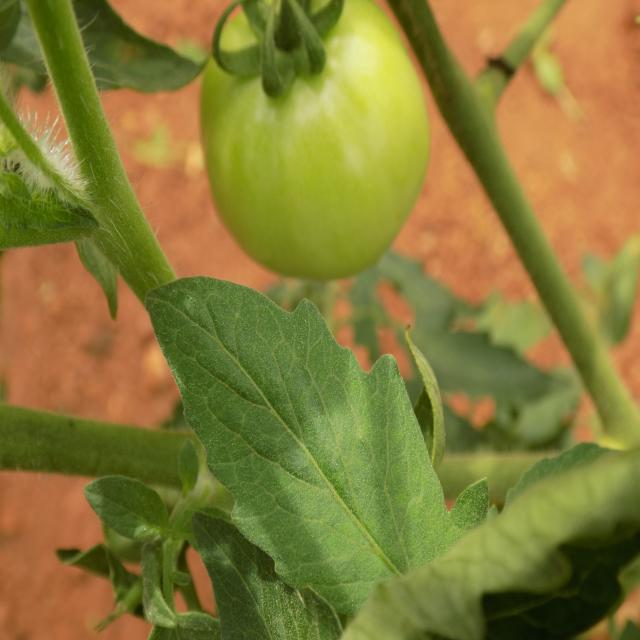tomato_healthy: (137, 275, 515, 640)
